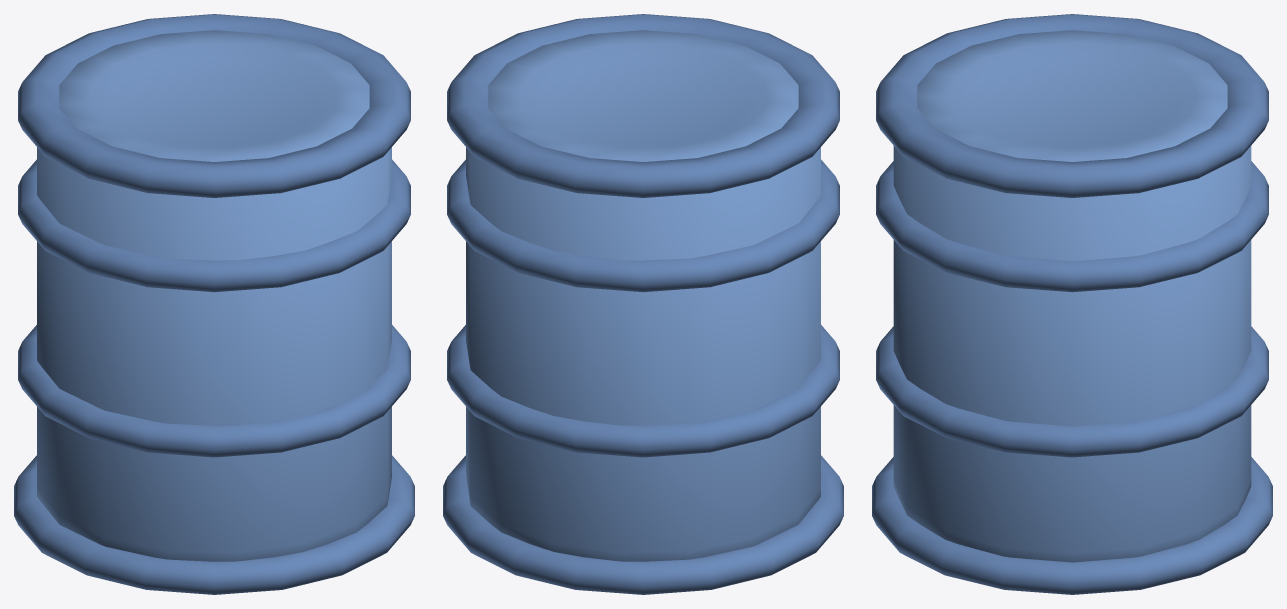
File: Barrel.glb
3 views of the same model, side by side, from view 1: azimuth 30°, elevation 25°; view 2: azimuth 150°, elevation 25°; view 3: azimuth 270°, elevation 25° (orthographic).
Parts seen in each view (by area): view 1: Cylinder; view 2: Cylinder; view 3: Cylinder.
Part boxes in pixels (left/top/right/bottom): Cylinder: left=14, top=14, right=414, bottom=594; Cylinder: left=443, top=14, right=843, bottom=594; Cylinder: left=872, top=14, right=1272, bottom=594.
Size of the model in its own units: 2.27 by 2.62 by 2.24.
